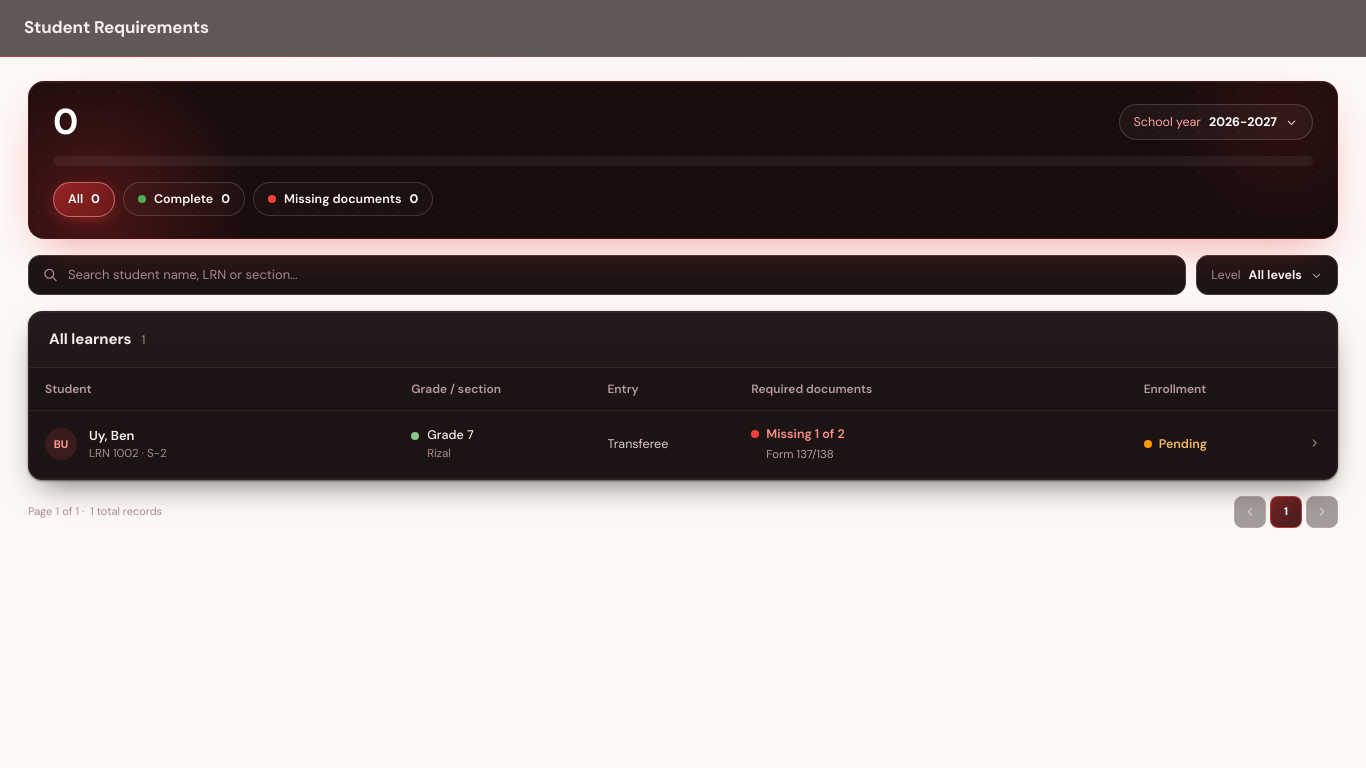
Test: RequirementsPage — dark mode › opens a learner's checklist, sorted by what's owed
This screenshot has width=1366, height=768.
Step 1. Click the text "Uy, Ben" → (112, 435), box [89, 427, 134, 444]
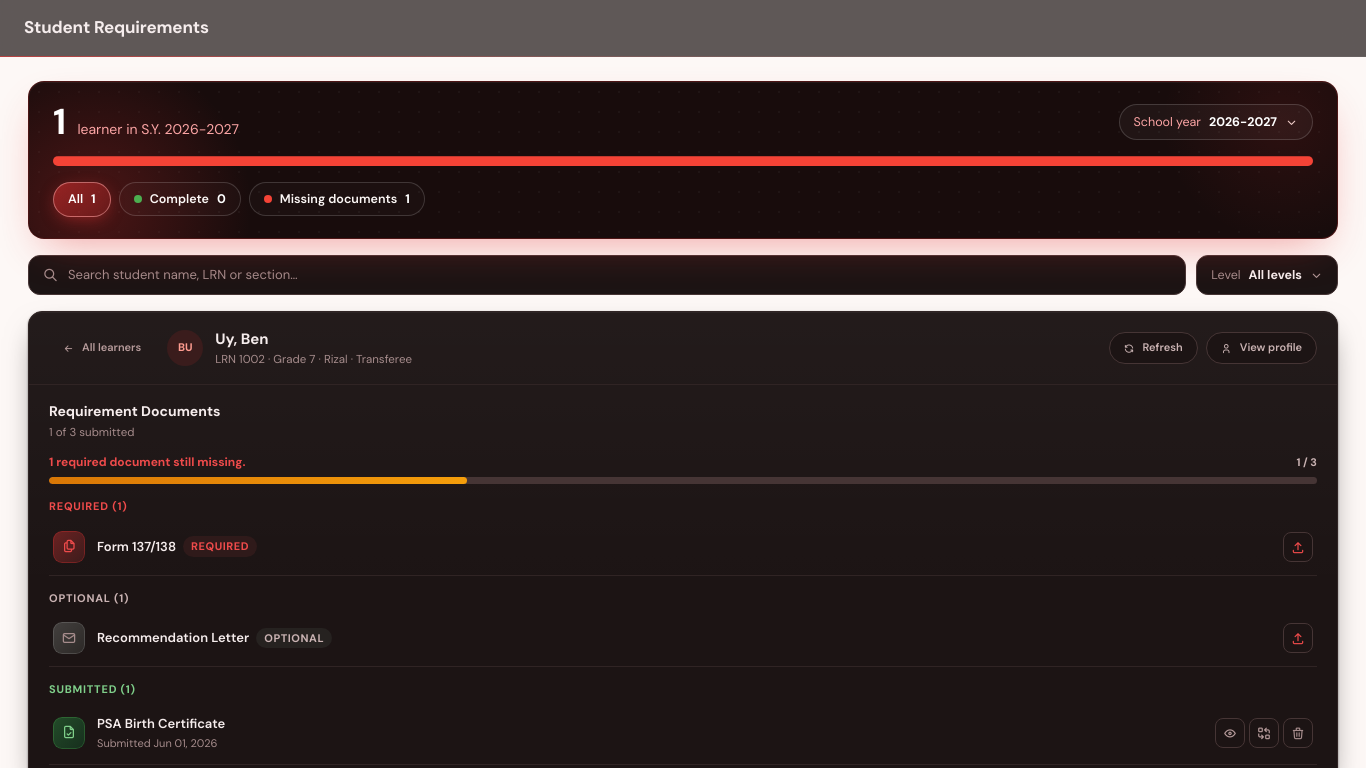
Now the text "Required (1)" is shown, box [49, 499, 127, 513]
Now the text "Optional (1)" is shown, box [49, 591, 129, 605]
Now the text "Submitted (1)" is shown, box [49, 682, 136, 696]
